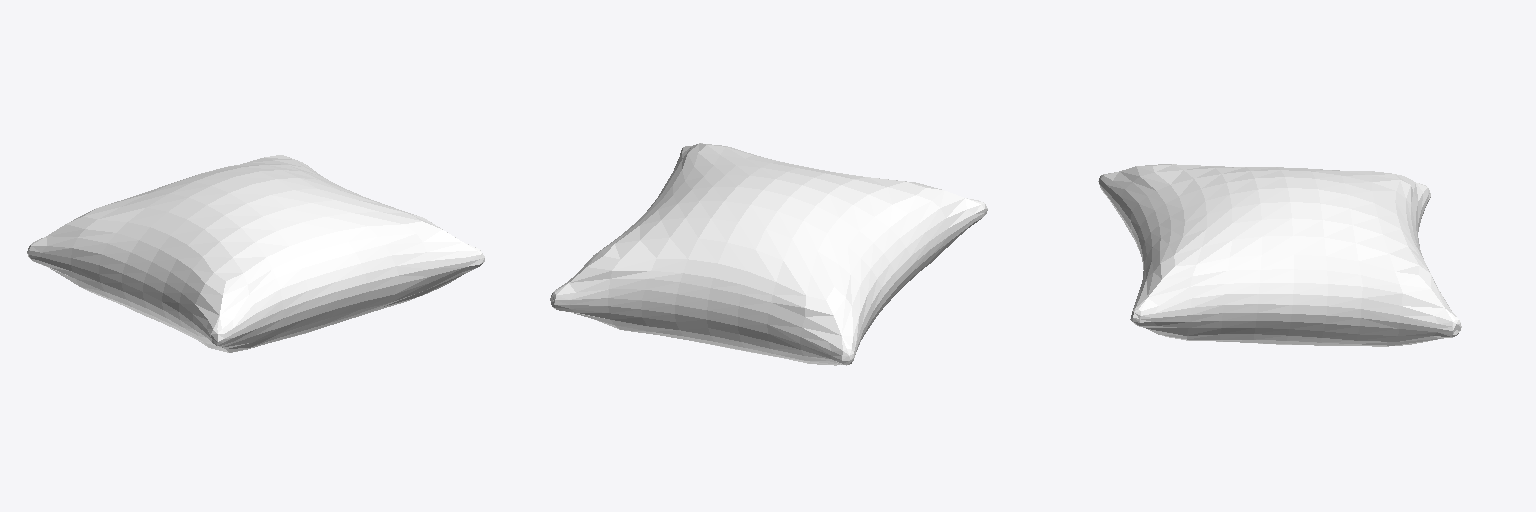
File: texturetest05.obj
3 views of the same model, side by side, from view 1: azimuth 30°, elevation 25°; view 2: azimuth 150°, elevation 25°; view 3: azimuth 270°, elevation 25° (orthographic).
Visible parts, largest first — view 1: pCube1 Cushion_Small_2; view 2: pCube1 Cushion_Small_2; view 3: pCube1 Cushion_Small_2.
Boxes of the visible parts, box(x1,y1,x2,y2) form: pCube1 Cushion_Small_2: box(27, 155, 484, 352); pCube1 Cushion_Small_2: box(550, 143, 987, 365); pCube1 Cushion_Small_2: box(1098, 164, 1461, 346).
Size of the model in its own units: 55.42 by 23.2 by 55.61.